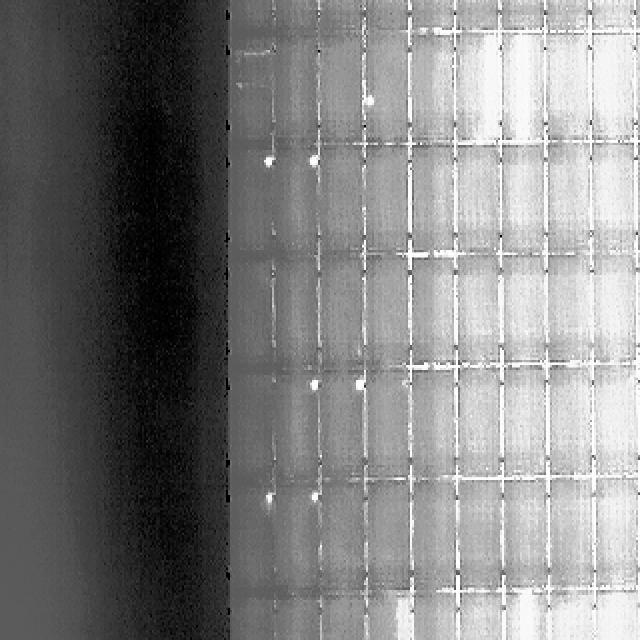Hotspots: (298, 377, 318, 396), (256, 148, 274, 169), (258, 488, 275, 510), (299, 487, 318, 506), (301, 149, 318, 169), (350, 376, 367, 396), (365, 91, 376, 112)
PV-modules: (320, 484, 369, 602), (270, 487, 320, 602), (270, 256, 320, 370), (506, 146, 557, 257), (452, 259, 502, 372), (452, 373, 502, 484), (272, 372, 322, 483), (458, 481, 507, 593), (362, 256, 409, 372), (318, 370, 367, 480), (409, 31, 457, 143), (410, 258, 458, 370), (501, 481, 549, 593), (592, 478, 640, 590), (456, 31, 504, 142), (544, 253, 592, 364), (545, 144, 592, 257), (547, 480, 594, 593), (270, 38, 319, 146), (592, 365, 640, 475), (507, 372, 554, 484), (362, 146, 410, 255), (456, 146, 504, 255), (272, 147, 319, 258), (548, 371, 594, 484), (410, 477, 456, 590), (230, 148, 276, 261), (363, 370, 410, 480), (320, 146, 366, 258), (361, 32, 407, 144), (365, 482, 410, 596), (231, 258, 276, 372), (502, 32, 548, 143), (588, 144, 634, 255), (411, 147, 457, 257), (320, 258, 364, 372), (412, 374, 457, 485), (321, 34, 366, 145), (593, 256, 638, 367), (232, 487, 276, 600), (228, 375, 272, 486), (500, 258, 545, 366), (588, 32, 632, 142), (546, 32, 590, 139), (452, 592, 550, 640), (231, 48, 276, 143), (230, 598, 323, 640), (410, 593, 460, 640), (456, 592, 504, 640), (364, 593, 412, 640), (502, 593, 549, 640), (548, 592, 594, 640), (594, 592, 640, 640), (320, 595, 368, 640), (272, 0, 326, 35), (230, 0, 274, 40), (318, 0, 364, 32), (408, 0, 456, 30), (502, 0, 552, 28), (360, 0, 406, 30), (450, 0, 498, 28), (544, 0, 590, 28), (590, 0, 634, 28), (632, 32, 640, 140), (636, 250, 640, 360), (636, 478, 640, 588), (638, 587, 640, 640), (638, 0, 640, 28)
